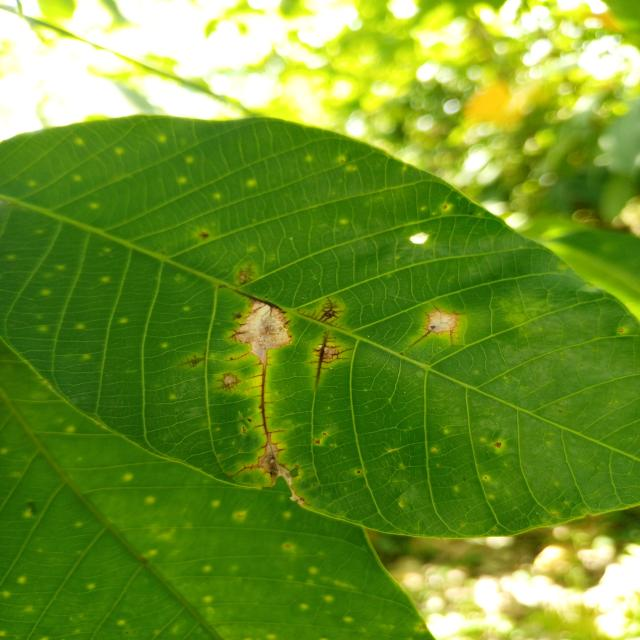Colletotrichum: (495, 442, 501, 448), (322, 433, 327, 435), (357, 471, 360, 474), (327, 314, 329, 316), (238, 315, 240, 317)
Corynespora: (243, 364, 285, 452), (309, 331, 355, 386), (297, 296, 348, 330), (229, 288, 286, 314), (212, 373, 244, 393), (236, 262, 257, 285), (408, 331, 432, 349), (177, 355, 205, 368), (232, 463, 260, 476), (224, 330, 248, 343)
Leaf-Blight: (236, 302, 290, 365), (258, 444, 304, 504), (426, 312, 458, 333)
